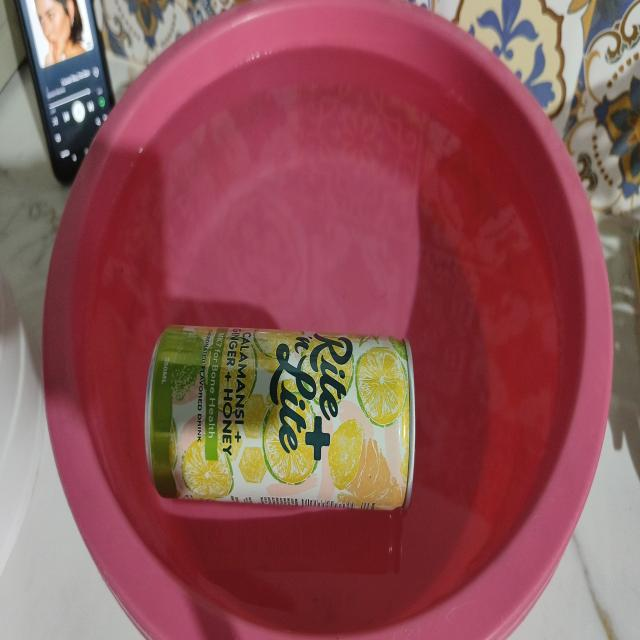Aluminum Can: (111, 281, 448, 547)
